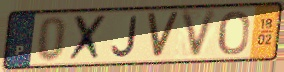0: (36, 15, 69, 64)
J: (109, 15, 138, 59)
O: (217, 9, 251, 57)
V: (178, 7, 221, 61), (145, 11, 182, 60)
X: (66, 12, 110, 64)
